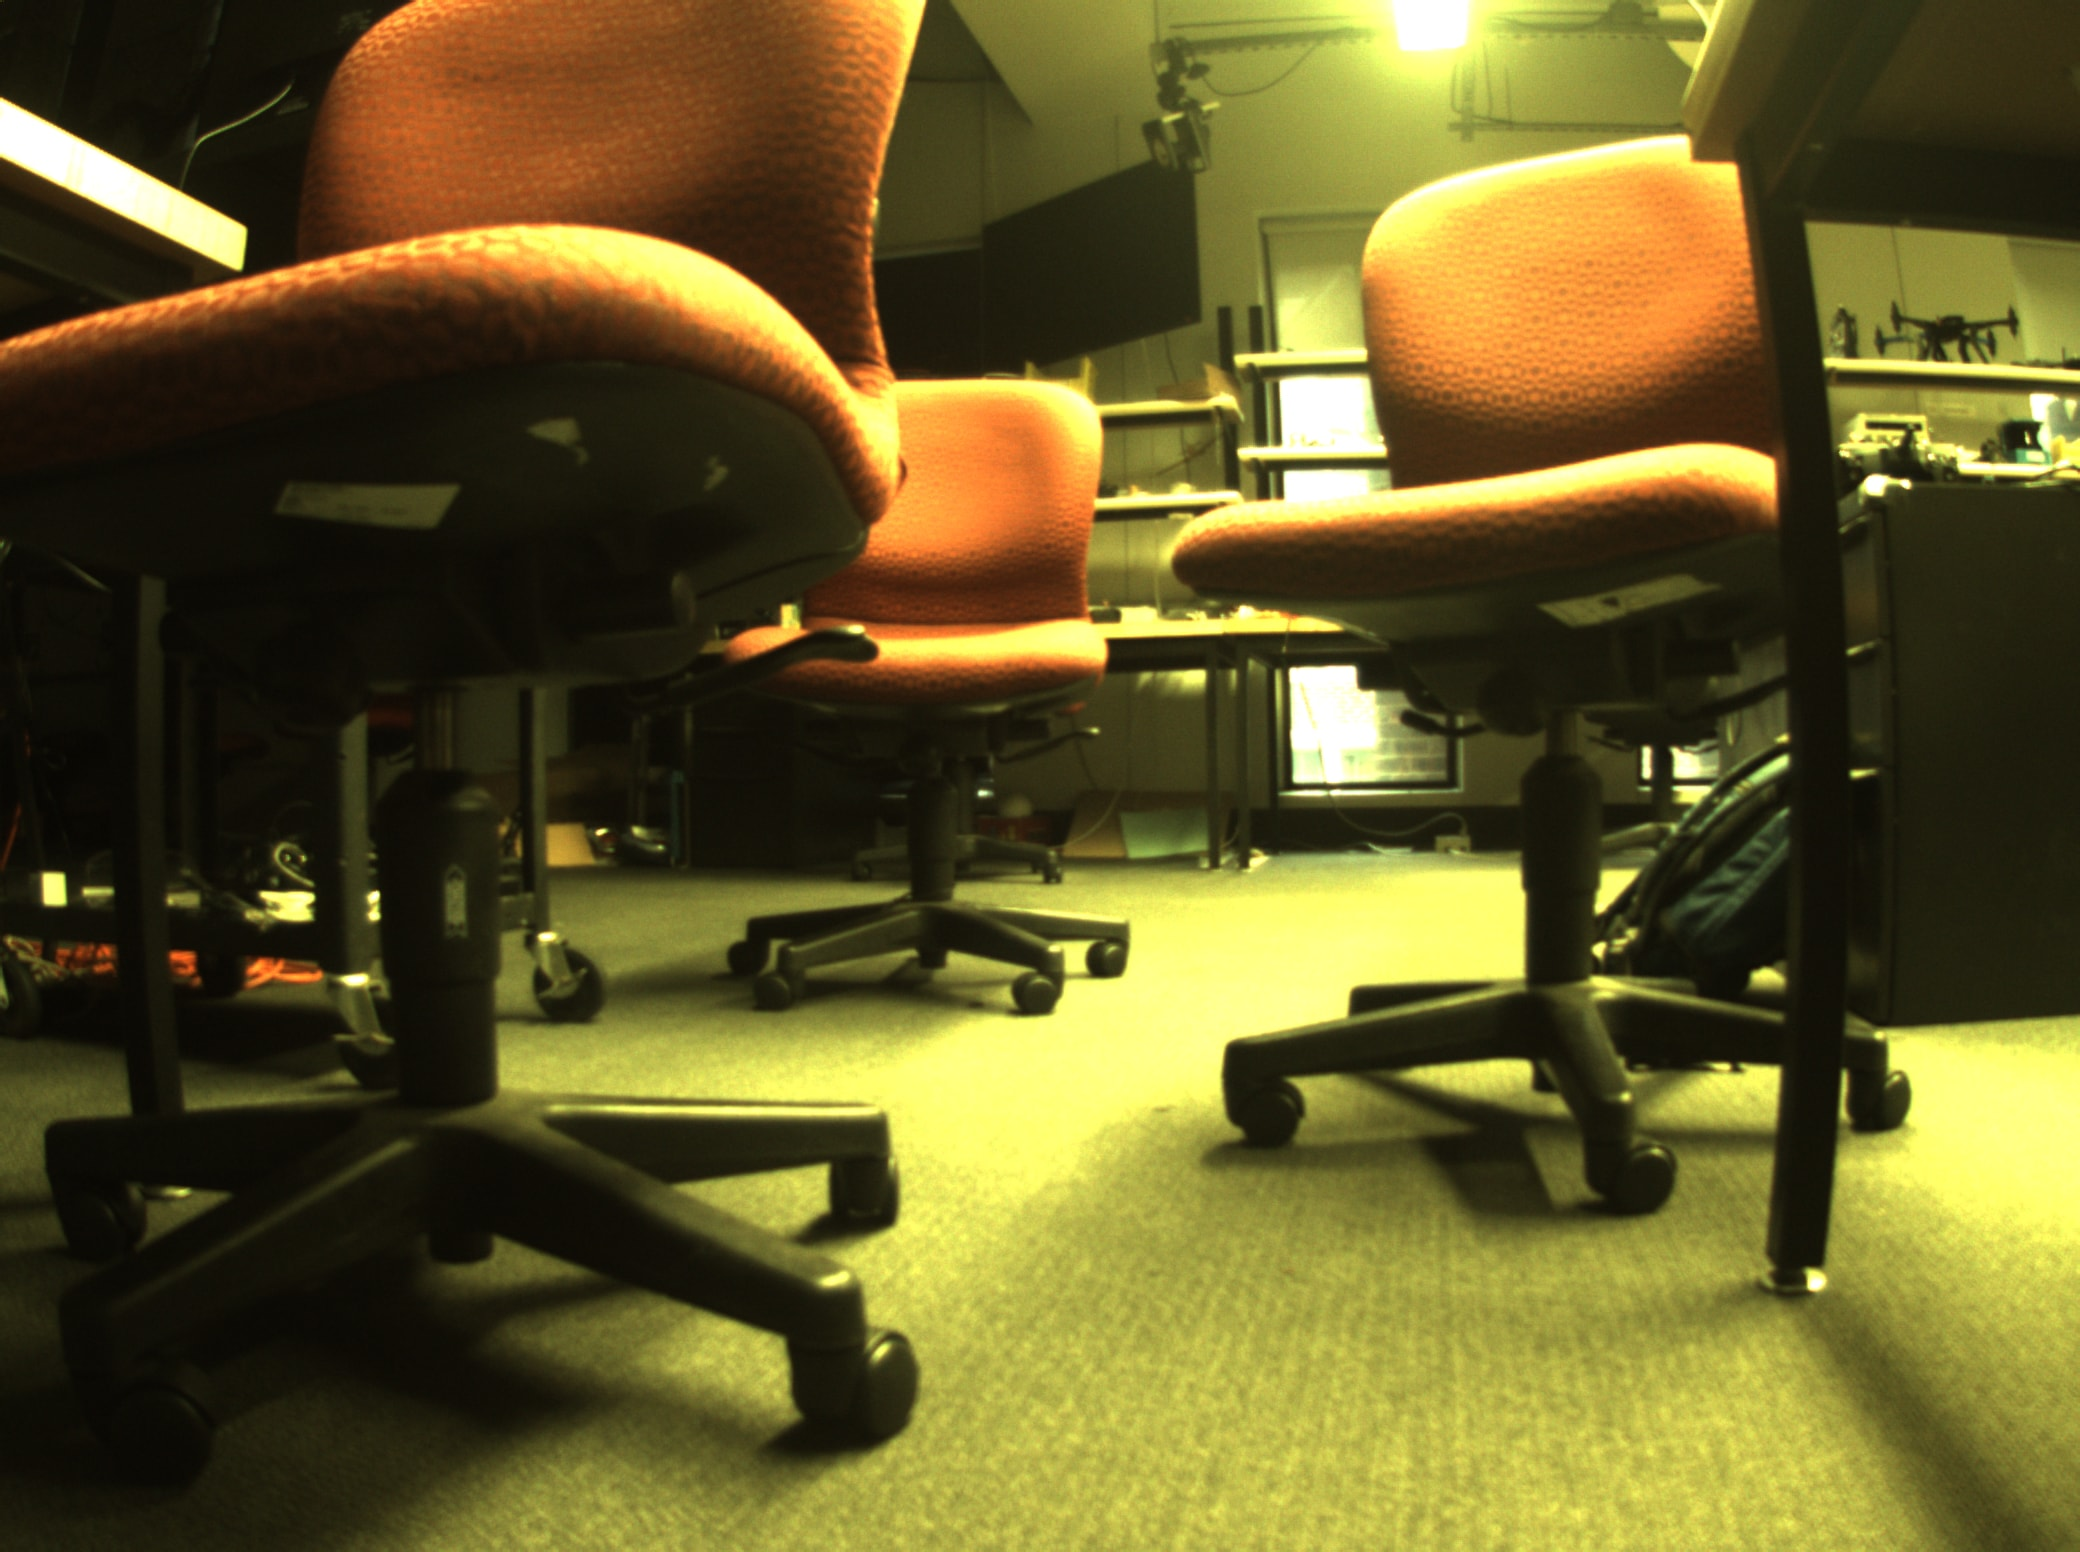chair: (10, 8, 950, 1485), (1162, 124, 1946, 1224), (716, 324, 1162, 1047)
